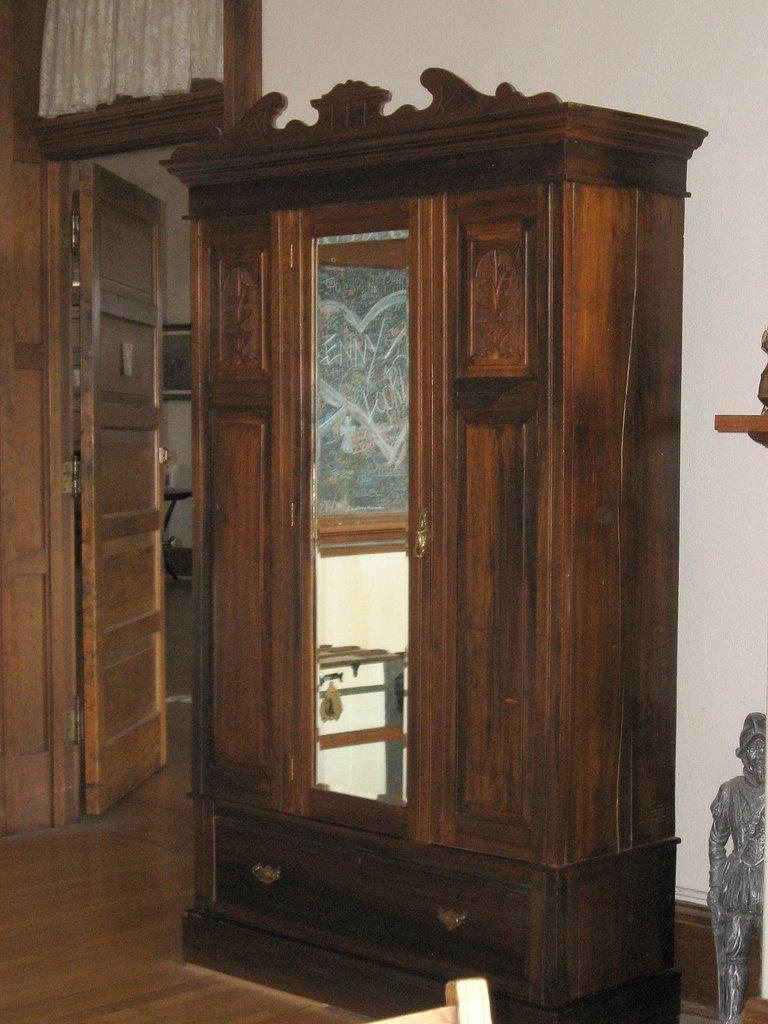door: (84, 202, 166, 794)
